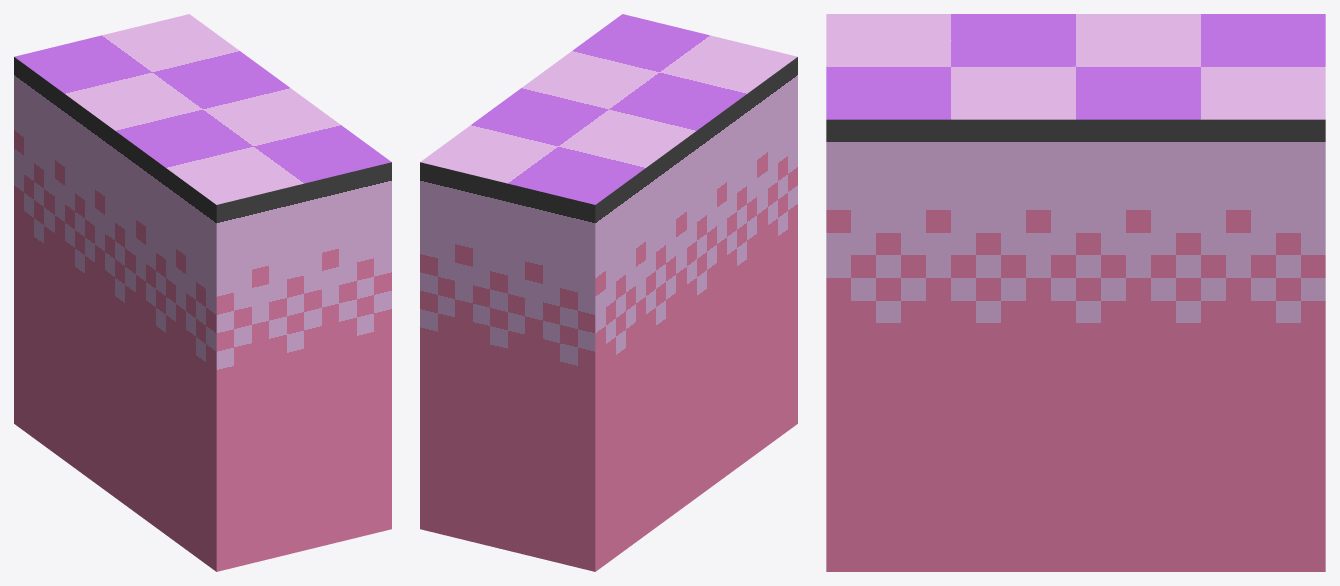
Rendered from sideslab.glb.
3 renders of one model, left to right at view 1: azimuth 30°, elevation 25°; view 2: azimuth 150°, elevation 25°; view 3: azimuth 270°, elevation 25°, orthographic. The views are drawn at different scales.
Parts seen in each view (by area): view 1: Halfcube -col; view 2: Halfcube -col; view 3: Halfcube -col.
Boxes of the visible parts, x1=… form: Halfcube -col: x1=14, y1=14, x2=391, y2=571; Halfcube -col: x1=420, y1=14, x2=797, y2=571; Halfcube -col: x1=826, y1=14, x2=1325, y2=571.
Bounding box in the file's own units: 1 × 2 × 2.
1 material, 1 textured.
